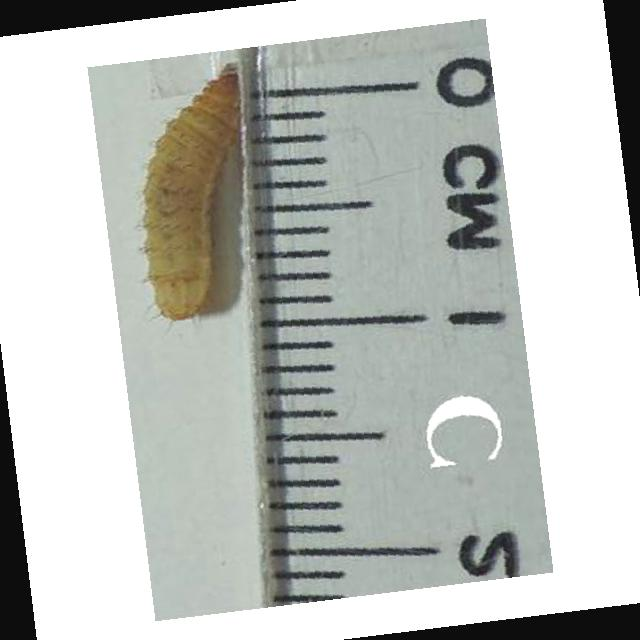Maggot: (139, 55, 248, 324)
